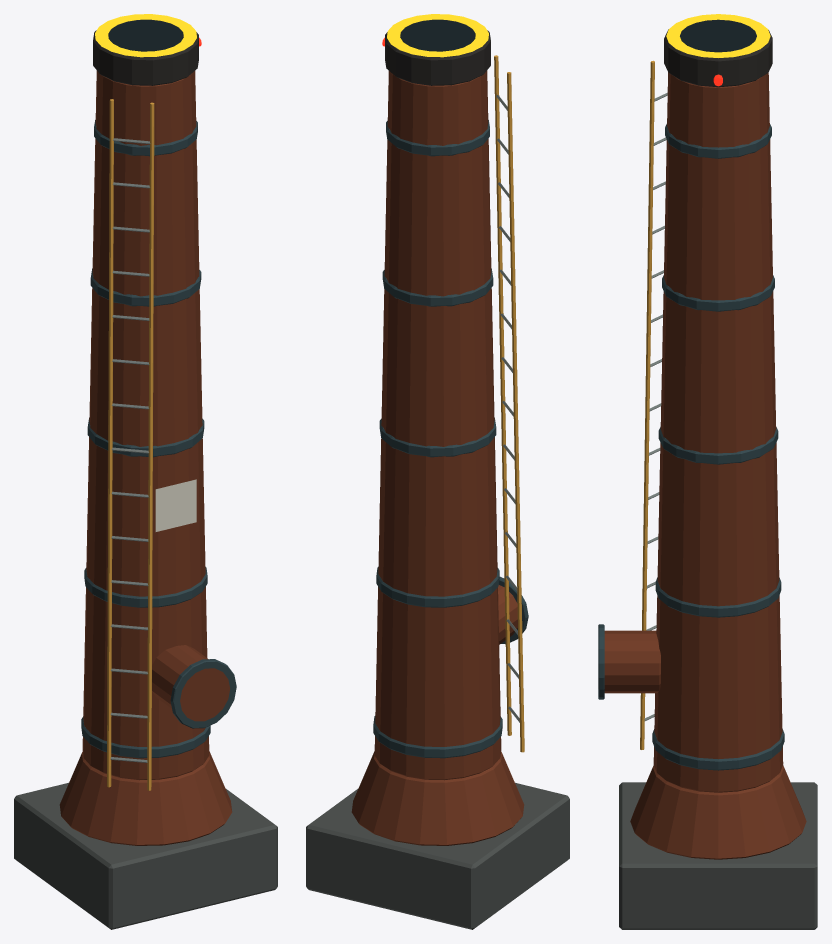
Rendered from tall-smokestack.glb.
The picture shows the model from 3 angles, left to right: view 1: azimuth 30°, elevation 25°; view 2: azimuth 150°, elevation 25°; view 3: azimuth 270°, elevation 25°; orthographic projection.
Visible parts, largest first — view 1: tall-smokestack__tall-smokestack__rust, tall-smokestack__tall-smokestack__concrete-dark, tall-smokestack__tall-smokestack__steel, tall-smokestack__tall-smokestack__amber, tall-smokestack__tall-smokestack__soot, tall-smokestack__tall-smokestack__hardware, tall-smokestack__tall-smokestack__rubber, tall-smokestack__tall-smokestack__decal-ivory, tall-smokestack__tall-smokestack__molten; view 2: tall-smokestack__tall-smokestack__rust, tall-smokestack__tall-smokestack__concrete-dark, tall-smokestack__tall-smokestack__steel, tall-smokestack__tall-smokestack__amber, tall-smokestack__tall-smokestack__soot, tall-smokestack__tall-smokestack__rubber, tall-smokestack__tall-smokestack__molten, tall-smokestack__tall-smokestack__hardware; view 3: tall-smokestack__tall-smokestack__rust, tall-smokestack__tall-smokestack__concrete-dark, tall-smokestack__tall-smokestack__steel, tall-smokestack__tall-smokestack__soot, tall-smokestack__tall-smokestack__amber, tall-smokestack__tall-smokestack__rubber, tall-smokestack__tall-smokestack__molten, tall-smokestack__tall-smokestack__hardware.
Boxes of the visible parts, <box> form: tall-smokestack__tall-smokestack__rust: <box>59,70,232,845</box>; tall-smokestack__tall-smokestack__concrete-dark: <box>14,782,277,929</box>; tall-smokestack__tall-smokestack__steel: <box>81,120,236,758</box>; tall-smokestack__tall-smokestack__amber: <box>107,99,154,790</box>; tall-smokestack__tall-smokestack__soot: <box>93,19,198,85</box>; tall-smokestack__tall-smokestack__hardware: <box>110,138,150,762</box>; tall-smokestack__tall-smokestack__rubber: <box>108,20,183,51</box>; tall-smokestack__tall-smokestack__decal-ivory: <box>155,479,196,531</box>; tall-smokestack__tall-smokestack__molten: <box>95,14,196,57</box>; tall-smokestack__tall-smokestack__rust: <box>351,70,524,845</box>; tall-smokestack__tall-smokestack__concrete-dark: <box>306,782,569,929</box>; tall-smokestack__tall-smokestack__steel: <box>373,120,528,758</box>; tall-smokestack__tall-smokestack__amber: <box>494,55,524,752</box>; tall-smokestack__tall-smokestack__soot: <box>385,19,490,85</box>; tall-smokestack__tall-smokestack__rubber: <box>400,20,475,51</box>; tall-smokestack__tall-smokestack__molten: <box>387,14,488,57</box>; tall-smokestack__tall-smokestack__hardware: <box>496,94,519,722</box>; tall-smokestack__tall-smokestack__rust: <box>604,72,806,859</box>; tall-smokestack__tall-smokestack__concrete-dark: <box>619,782,817,929</box>; tall-smokestack__tall-smokestack__steel: <box>598,124,784,770</box>; tall-smokestack__tall-smokestack__soot: <box>664,19,772,87</box>; tall-smokestack__tall-smokestack__amber: <box>640,60,654,749</box>; tall-smokestack__tall-smokestack__rubber: <box>680,20,756,52</box>; tall-smokestack__tall-smokestack__molten: <box>666,14,770,57</box>; tall-smokestack__tall-smokestack__hardware: <box>644,92,667,720</box>.
Bounding box in the file's own units: 1.9 × 9.01 × 2.1.
